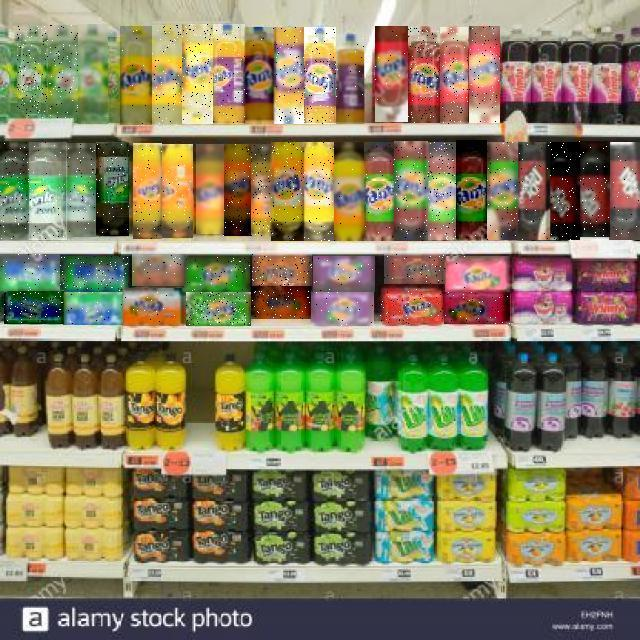Drinks: (28, 142, 67, 240), (394, 141, 428, 241), (546, 142, 580, 240), (516, 142, 550, 240), (212, 24, 245, 124), (271, 142, 304, 241), (375, 27, 408, 123), (120, 26, 152, 125), (408, 26, 440, 123), (304, 27, 336, 124), (96, 142, 129, 236), (456, 140, 487, 240), (182, 25, 213, 125), (578, 141, 610, 237), (244, 28, 276, 124), (303, 142, 334, 241), (609, 142, 640, 240), (487, 142, 518, 240), (469, 26, 500, 123), (78, 24, 108, 124), (364, 142, 394, 241), (334, 142, 364, 241), (152, 25, 182, 124), (426, 142, 456, 240), (162, 144, 193, 238), (274, 27, 304, 124), (17, 26, 48, 119), (0, 142, 29, 240), (66, 143, 96, 237), (48, 25, 78, 118), (133, 143, 162, 239), (440, 27, 468, 124), (223, 144, 251, 236), (196, 144, 224, 234), (336, 34, 364, 124), (61, 256, 129, 292), (446, 256, 512, 292), (185, 256, 251, 292), (124, 288, 186, 326), (380, 288, 443, 324), (445, 291, 511, 325), (313, 257, 375, 293), (0, 254, 60, 291), (186, 292, 251, 326), (311, 292, 374, 326), (251, 144, 274, 236), (63, 292, 125, 325), (4, 291, 64, 325), (251, 286, 311, 319), (253, 254, 313, 286), (385, 254, 447, 284), (132, 254, 186, 286)
